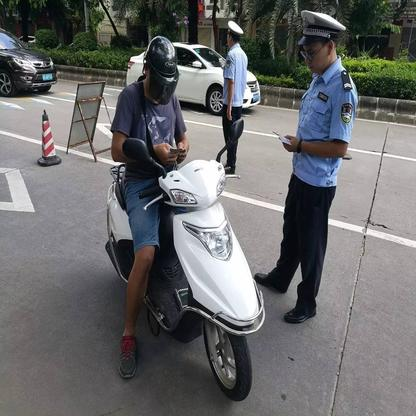target: (100, 30, 275, 406)
